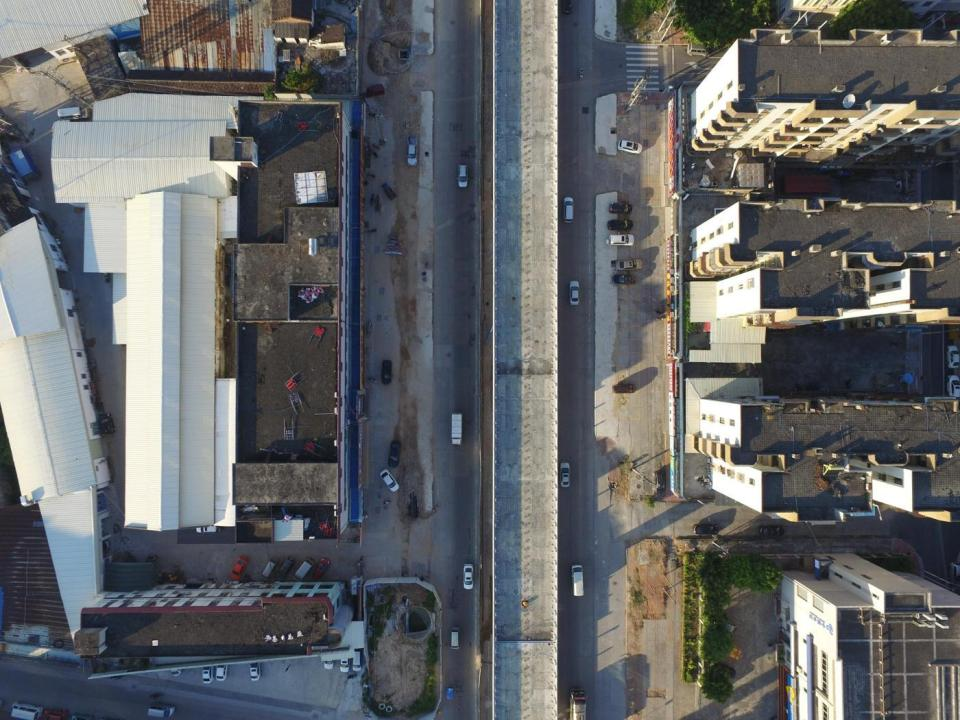car: (293, 557, 315, 583), (379, 468, 400, 492), (606, 232, 634, 248), (230, 556, 248, 580), (616, 138, 642, 154), (277, 556, 293, 581), (606, 217, 634, 231), (99, 412, 116, 435), (261, 558, 277, 582), (313, 557, 329, 581), (388, 439, 401, 468), (758, 524, 786, 537), (462, 563, 475, 590), (568, 279, 581, 306), (692, 523, 719, 536), (456, 163, 470, 188), (380, 359, 393, 385), (616, 258, 642, 271), (559, 461, 572, 487), (215, 659, 229, 683), (562, 196, 574, 224), (608, 202, 633, 215), (43, 707, 67, 720), (611, 273, 636, 285), (171, 650, 182, 677), (202, 660, 214, 684), (612, 383, 636, 395), (250, 656, 261, 682), (338, 652, 350, 673), (323, 651, 335, 670), (562, 0, 573, 14)
truck: (10, 145, 40, 181), (569, 687, 587, 720), (451, 412, 463, 447), (406, 133, 418, 167)
van: (10, 701, 43, 720), (569, 562, 584, 598), (56, 106, 91, 120), (146, 703, 176, 718), (195, 521, 221, 534), (448, 625, 460, 650), (352, 651, 360, 672)
